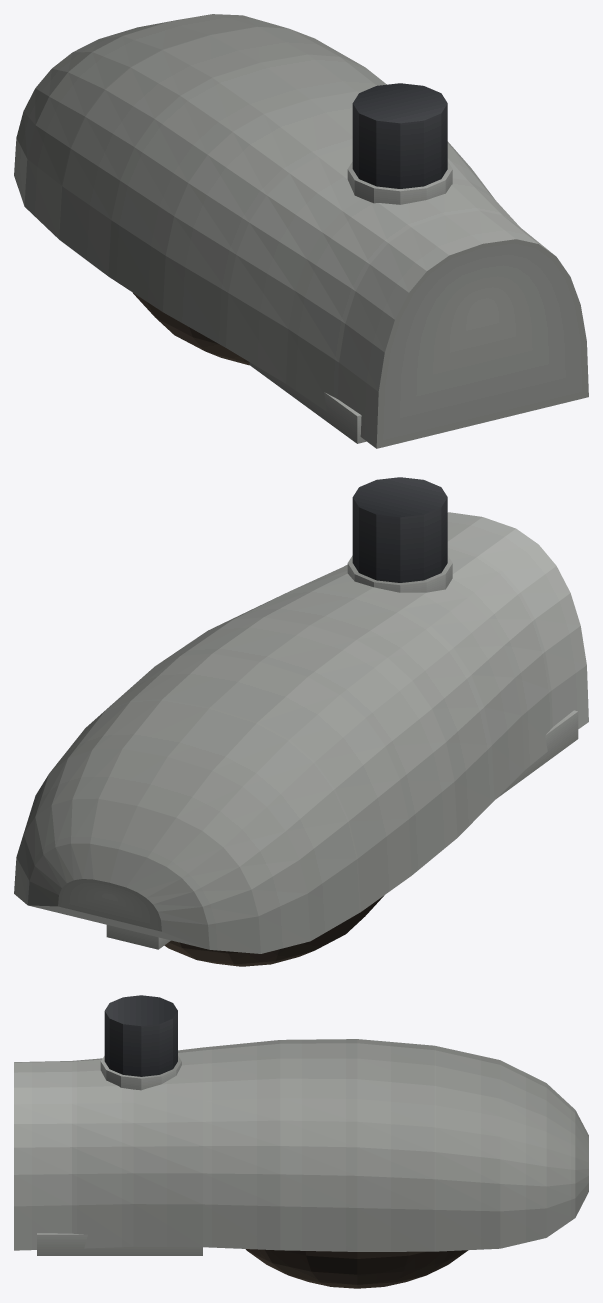
File: streetlight_gem400a.obj
The picture shows the model from 3 angles, top to bottom: view 1: azimuth 30°, elevation 25°; view 2: azimuth 150°, elevation 25°; view 3: azimuth 270°, elevation 25°; orthographic projection. The views are drawn at different scales.
Parts seen in each view (by area): view 1: fixture; view 2: fixture; view 3: fixture.
Part boxes in pixels (x1,y1,x2,y2): fixture: [14, 14, 588, 448]; fixture: [14, 477, 588, 966]; fixture: [14, 995, 588, 1288].
Bounding box in the file's own units: 0.4375 × 0.476 × 0.9312.
